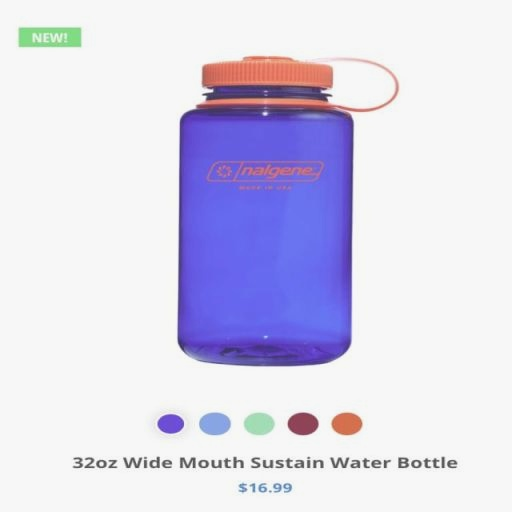bottle: (172, 51, 404, 370)
